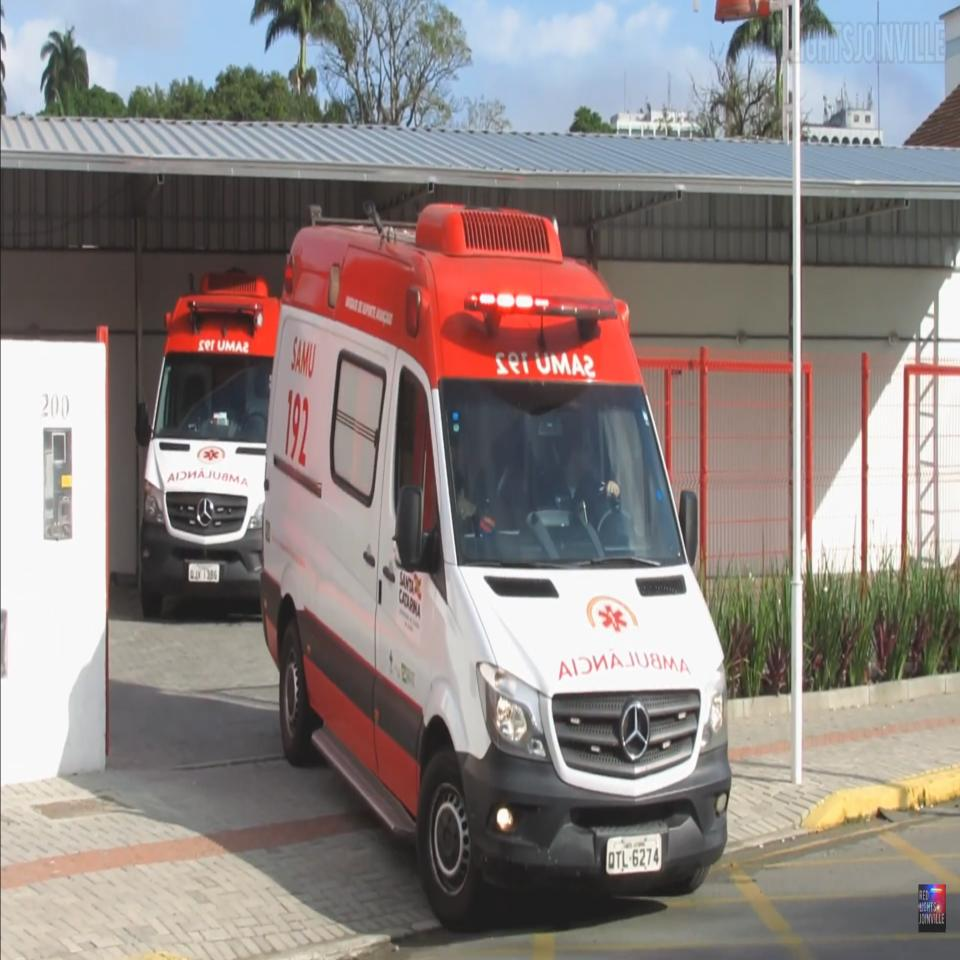ambulancia: (260, 199, 733, 937), (132, 274, 282, 624)
